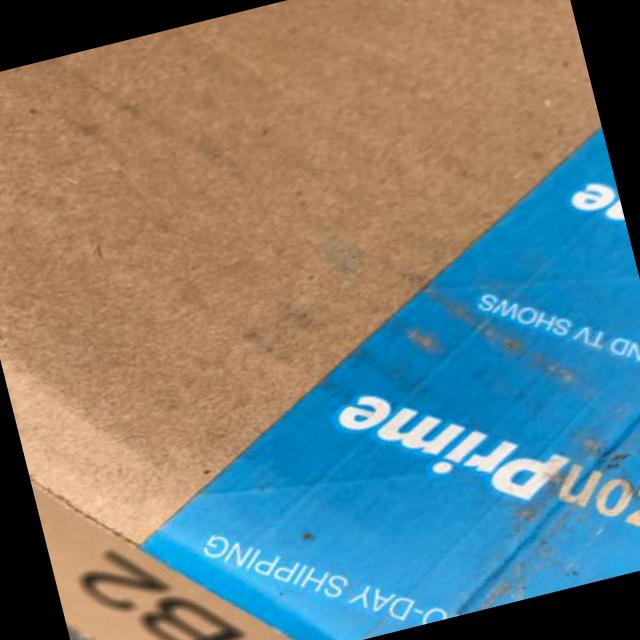cardboard: (0, 0, 599, 541), (143, 130, 639, 639), (34, 486, 291, 639)
